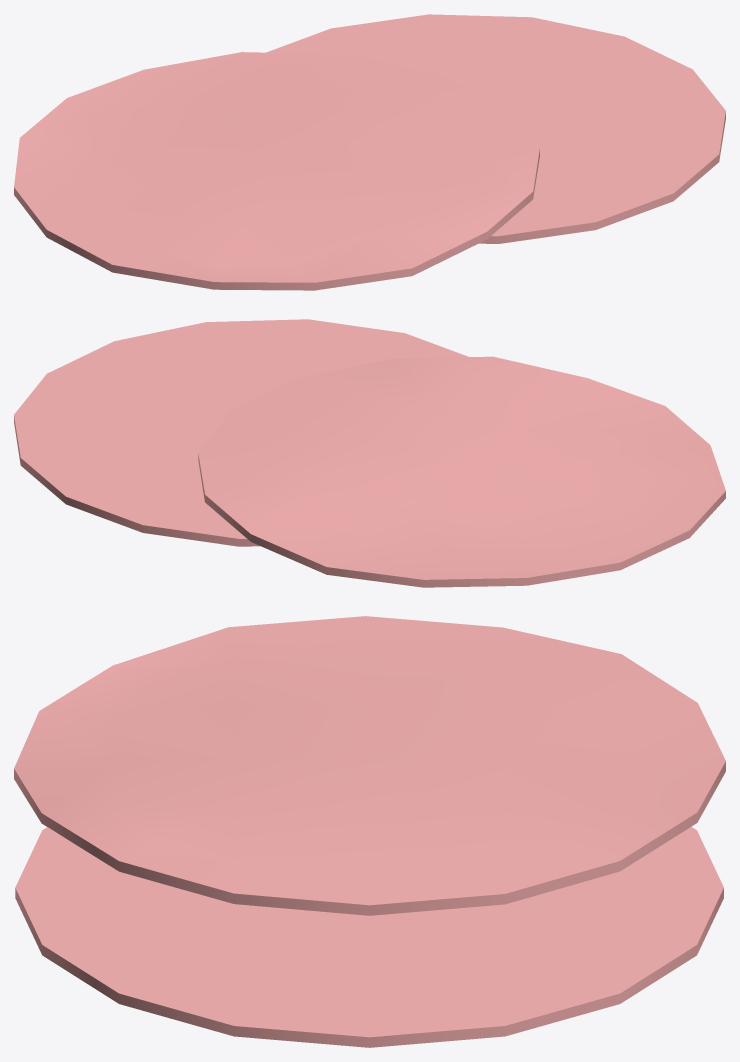
The model's file is Ham.fbx.
3 views of the same model, one above another, from view 1: azimuth 30°, elevation 25°; view 2: azimuth 150°, elevation 25°; view 3: azimuth 270°, elevation 25° (orthographic). The views are drawn at different scales.
Parts seen in each view (by area): view 1: Ham; view 2: Ham; view 3: Ham.
Part boxes in pixels (x1,y1,x2,y2): Ham: [14, 14, 725, 290]; Ham: [14, 319, 725, 587]; Ham: [14, 616, 725, 1047].
Size of the model in its own units: 18.82 by 0.7213 by 13.39.
